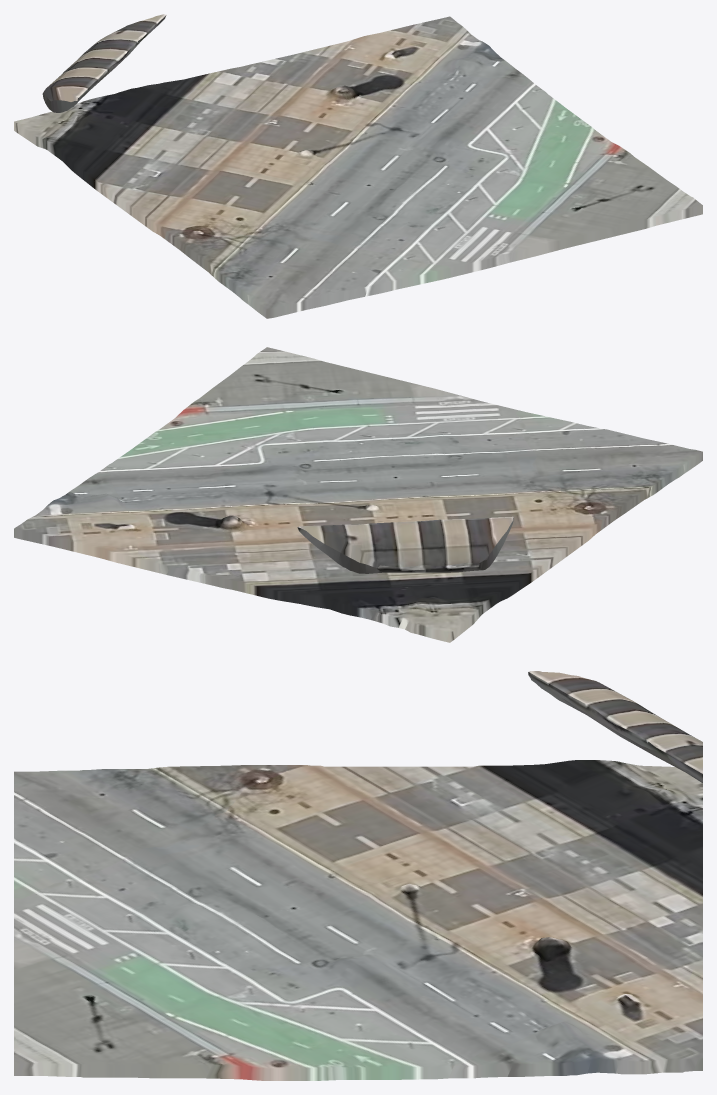
File: z20-167790-405222-h0-yup-uvflip-v3-world.glb
3 renders of one model, top to bottom at view 1: azimuth 30°, elevation 25°; view 2: azimuth 150°, elevation 25°; view 3: azimuth 270°, elevation 25°, orthographic. The views are drawn at different scales.
Bounding box in the file's own units: 30.16 × 5.84 × 30.32.
Materials: 1 (1 with a texture image).
